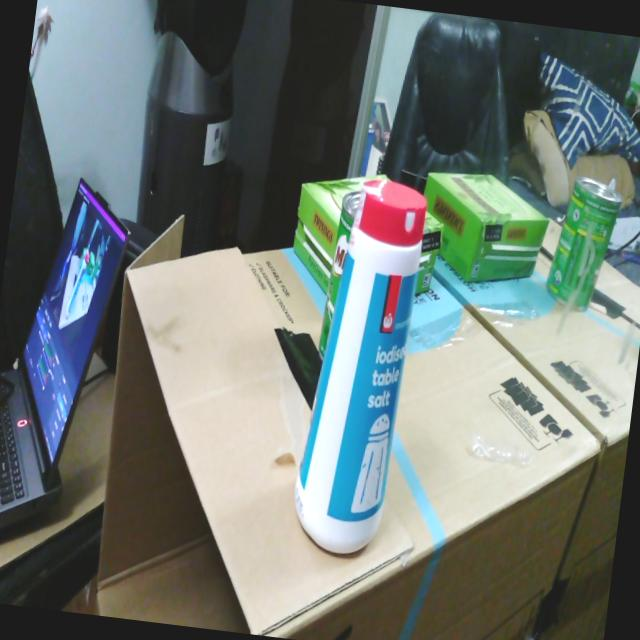nestle_milo_tin: (318, 190, 361, 362)
twinings_greentea_box: (293, 174, 390, 296), (415, 211, 443, 293)
woolworths_salt_bottle: (295, 179, 427, 553)
